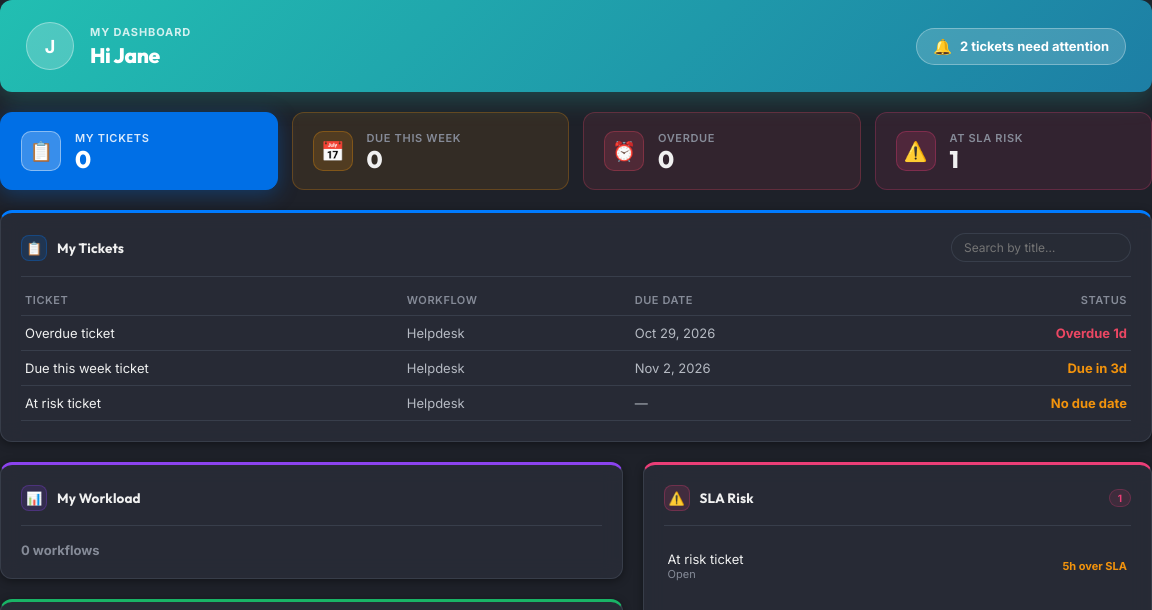
Dashboard — KPI tiles filter the My Tickets list › filters to only at-risk tickets when the At SLA Risk tile is clicked
The width and height of the screenshot is (1152, 610).
Check: the text "Overdue ticket" is shown, box [21,316,403,350]
Click the text "At SLA Risk" at (986, 138), box [950,131,1023,145]
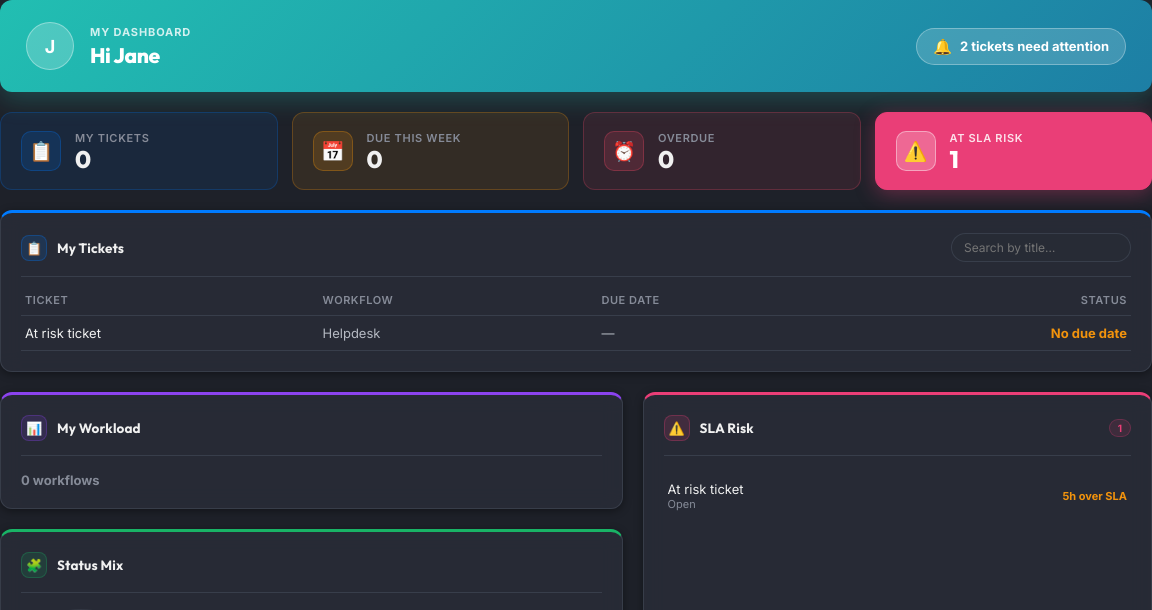
Check: the text "At risk ticket" is shown, box [21,316,318,350]
Check: the text "Overdue ticket" is gone
Check: the text "Due this week ticket" is gone
